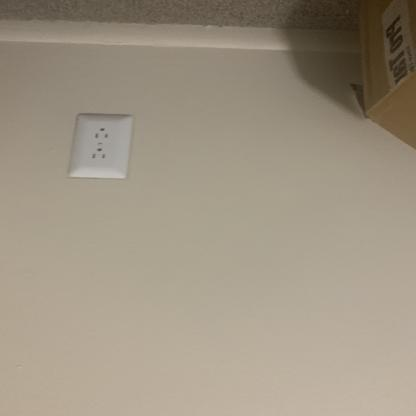OUTLET: (66, 114, 136, 178)
